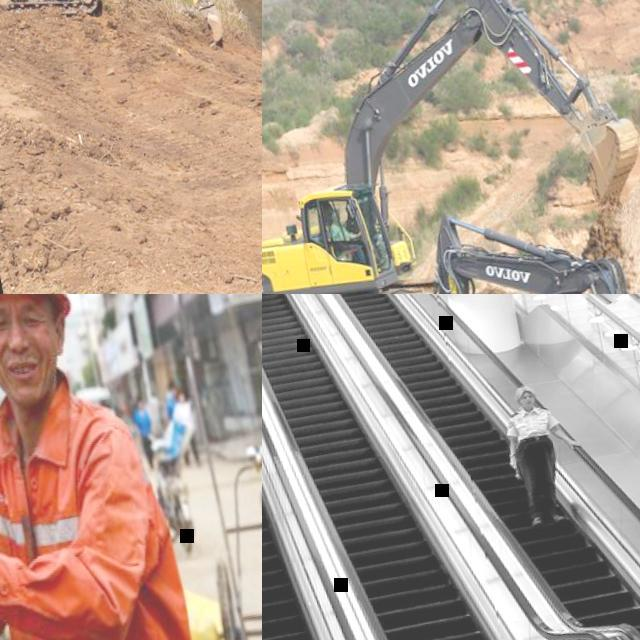vest: (0, 350, 213, 640), (330, 222, 350, 244)
